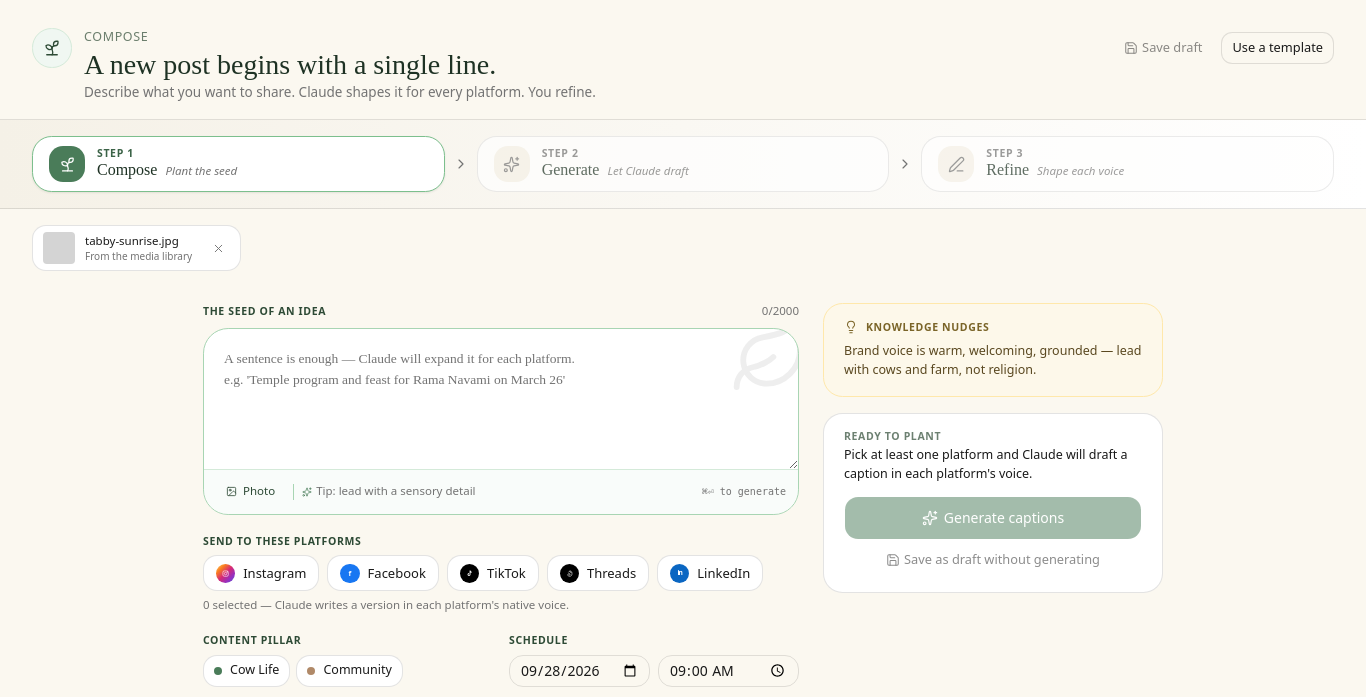
Test: CreatePage › media-library intake (?media={id}) › keeps the save flow alive when attach fails (toast, non-fatal)
Expected: the text "tabby-sunrise.jpg" is shown, top-left (85, 233), bottom-right (192, 250)
Type "Tabby at dawn" into the text box labelled "The seed of an idea". click: (501, 399)
box: top-left (204, 329), bottom-right (798, 469)
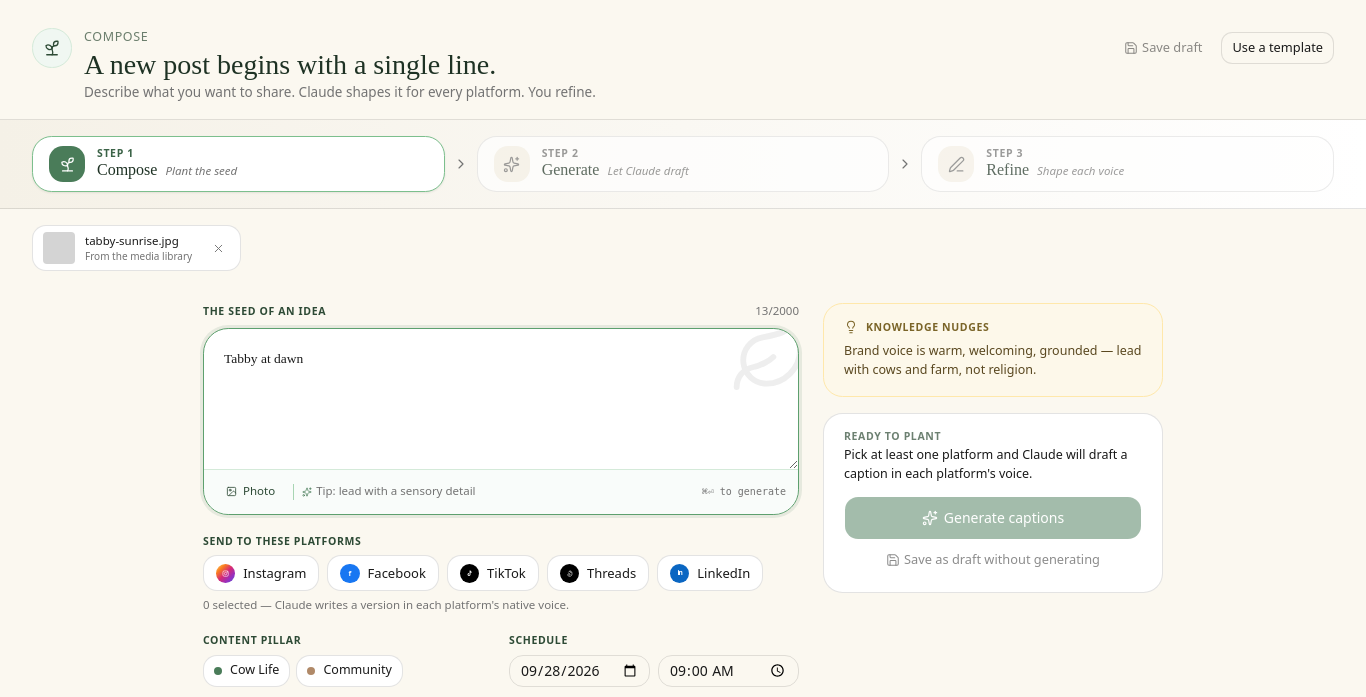
Click the button "Instagram". click: (261, 573)
box: top-left (203, 555), bottom-right (319, 591)
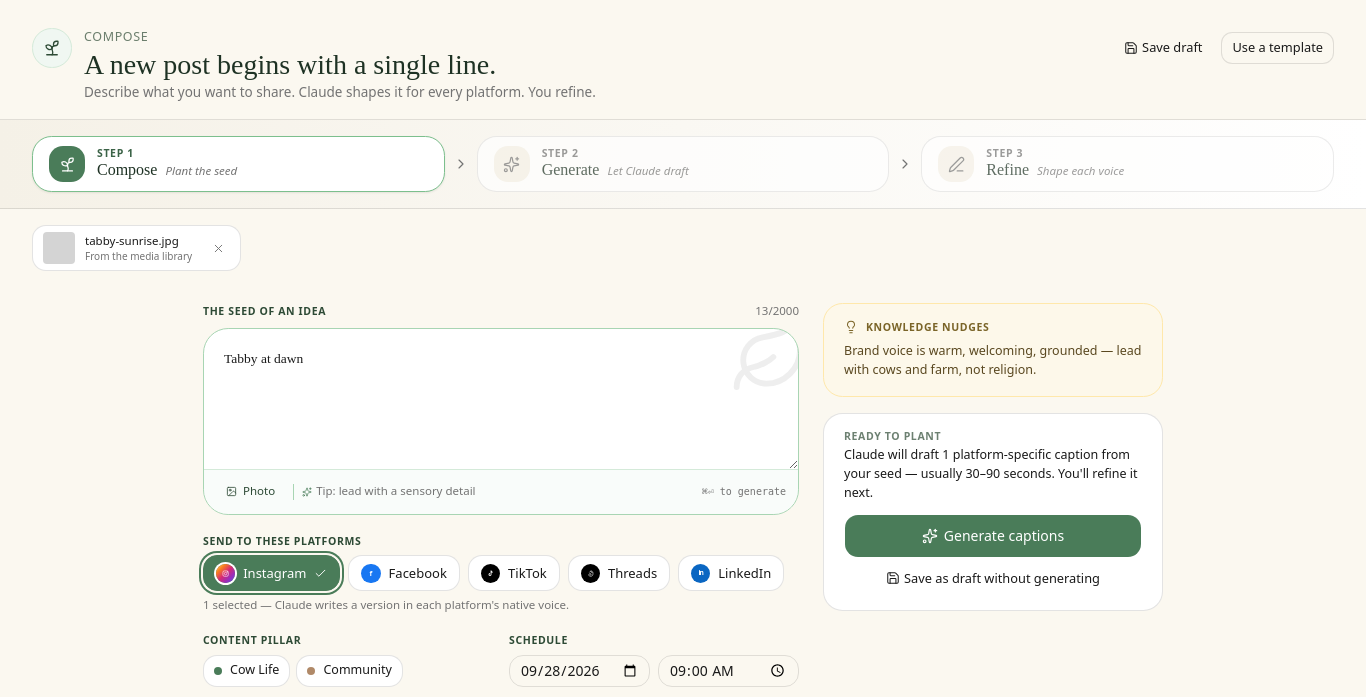
Click the button "Save as draft without generating". click: (993, 578)
box: top-left (844, 562), bottom-right (1142, 594)
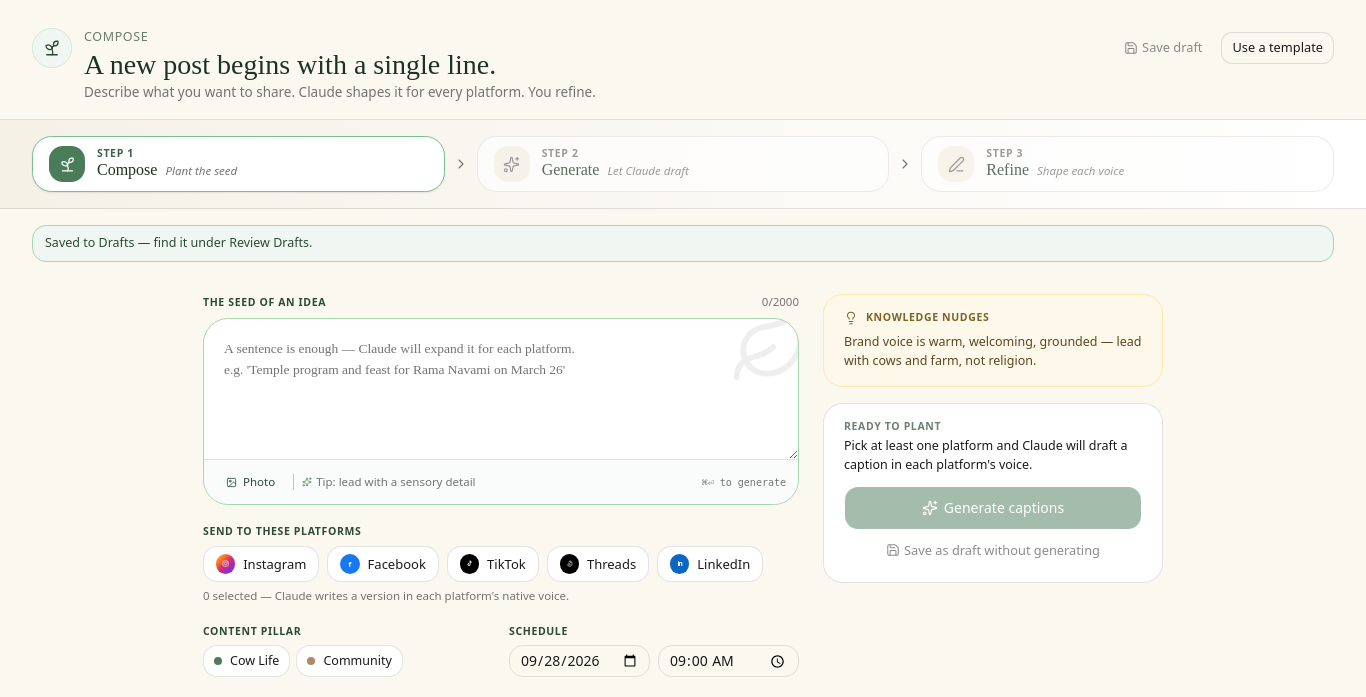
Now the message shows "Saved to Drafts", box top-left (45, 234), bottom-right (312, 251)
